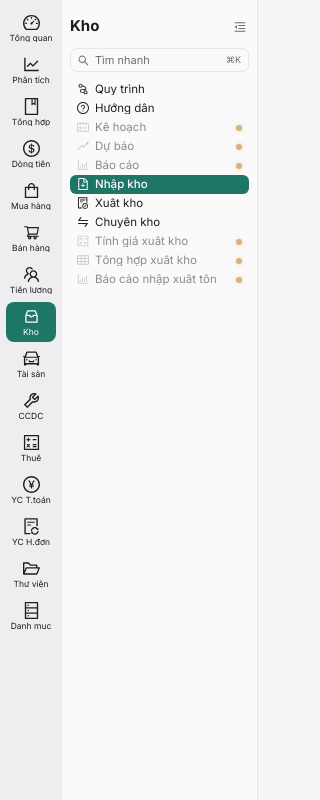
Sidebar › panel bám theo URL khi điều hướng không qua rail (Tìm nhanh) — không kẹt ở lựa chọn cũ
The width and height of the screenshot is (320, 800).
Expected: the text "Nhập kho" is shown, [95,177,148,191]
Step 1. Type "Thu tiền" into the field with placeholder "Tìm nhanh" → (157,60), box [95,52,220,68]
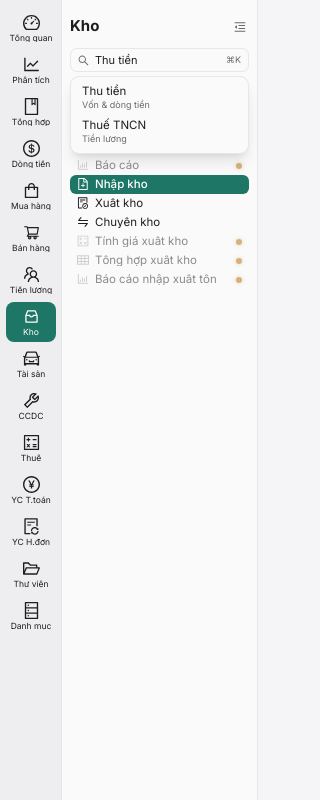
Step 2. Click the text "Thu tiền" → (104,91), box [82,84,126,98]
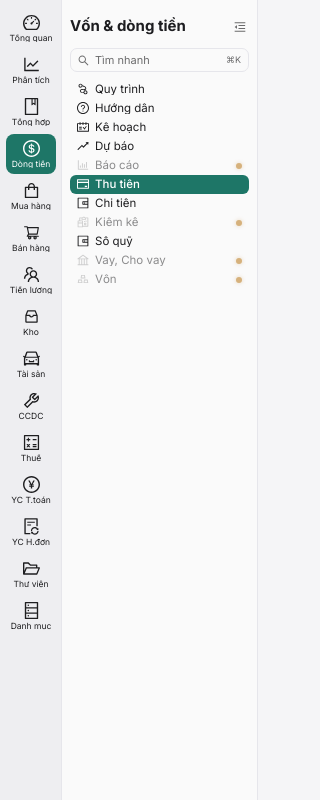
Expected: the text "Thu tiền" is shown, [95,177,140,191]
Expected: the button "Nhập kho" is gone
Expected: the button "Xuất kho" is gone
